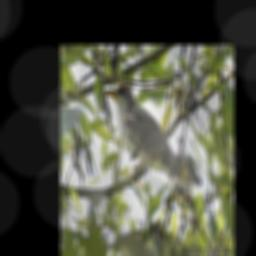Cuckoo: (103, 82, 210, 248)
